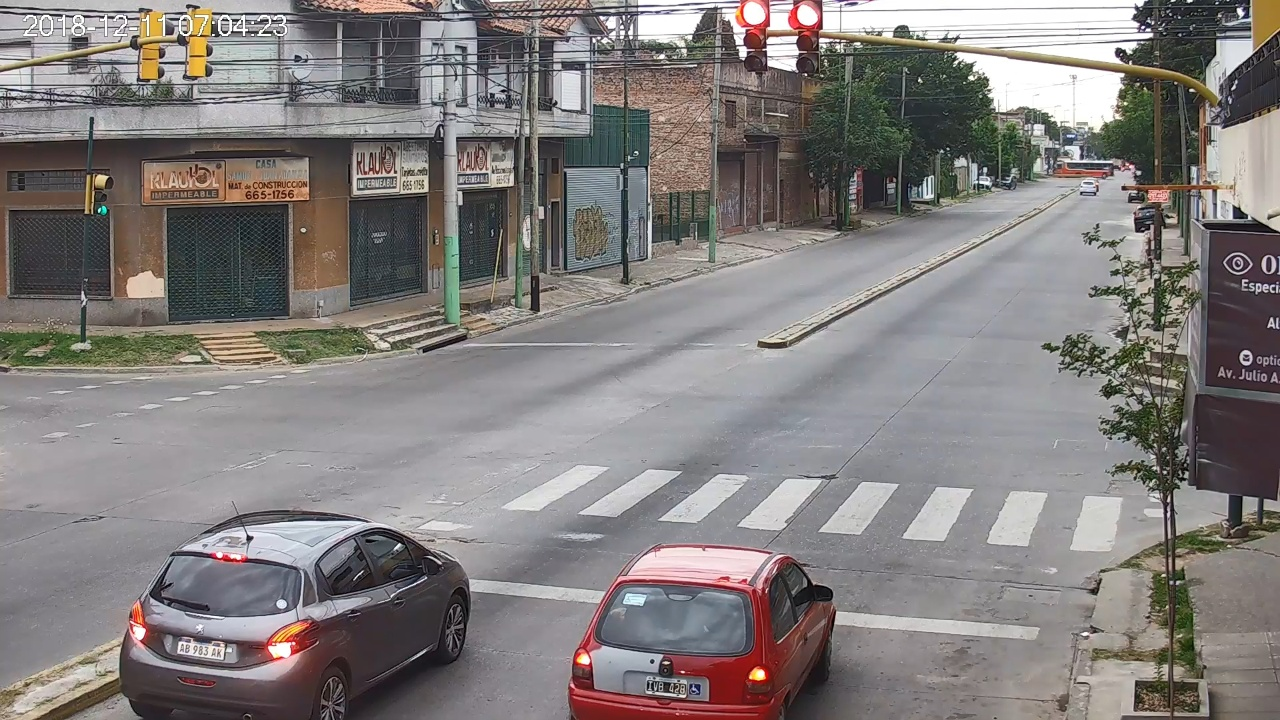car: (119, 509, 471, 720), (568, 543, 837, 720)
traffic light: (793, 1, 821, 74), (741, 1, 769, 72)
